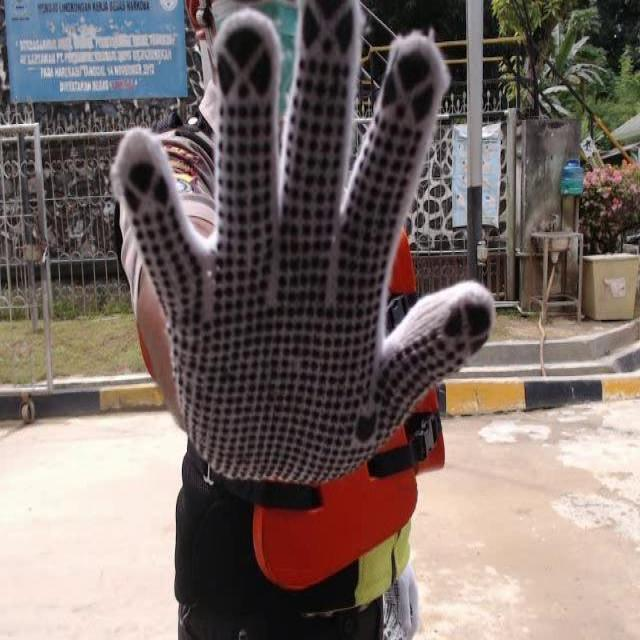Vest: (248, 442, 426, 590)
